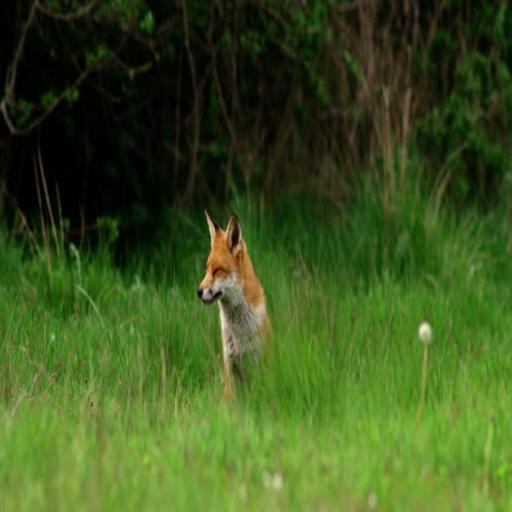Fox: (192, 216, 290, 422)
